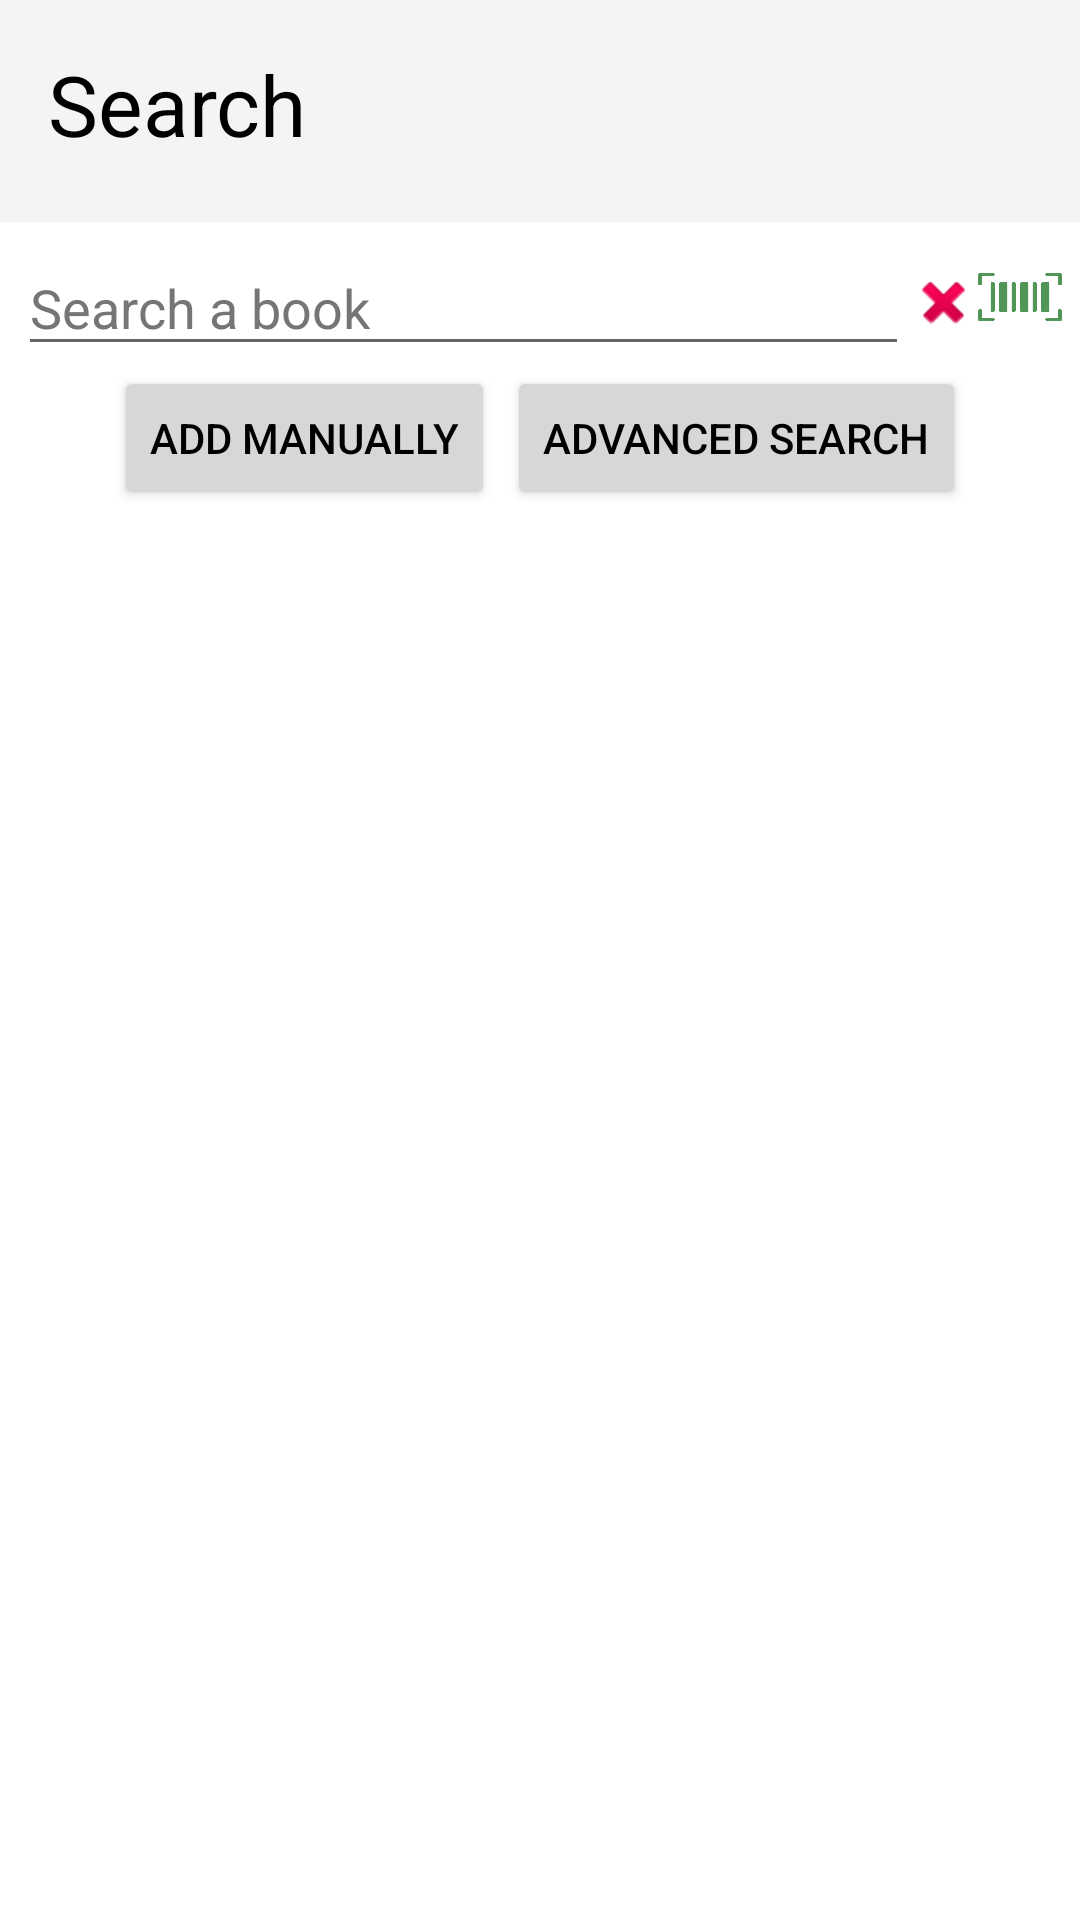

Named icons in this screenshot (1080px x 1920px) and their bounding boxes, [left=x1, top=y1, right=x2, bottom=y2]:
barcode: [left=978, top=273, right=1062, bottom=321]
delete: [left=922, top=282, right=965, bottom=324]
